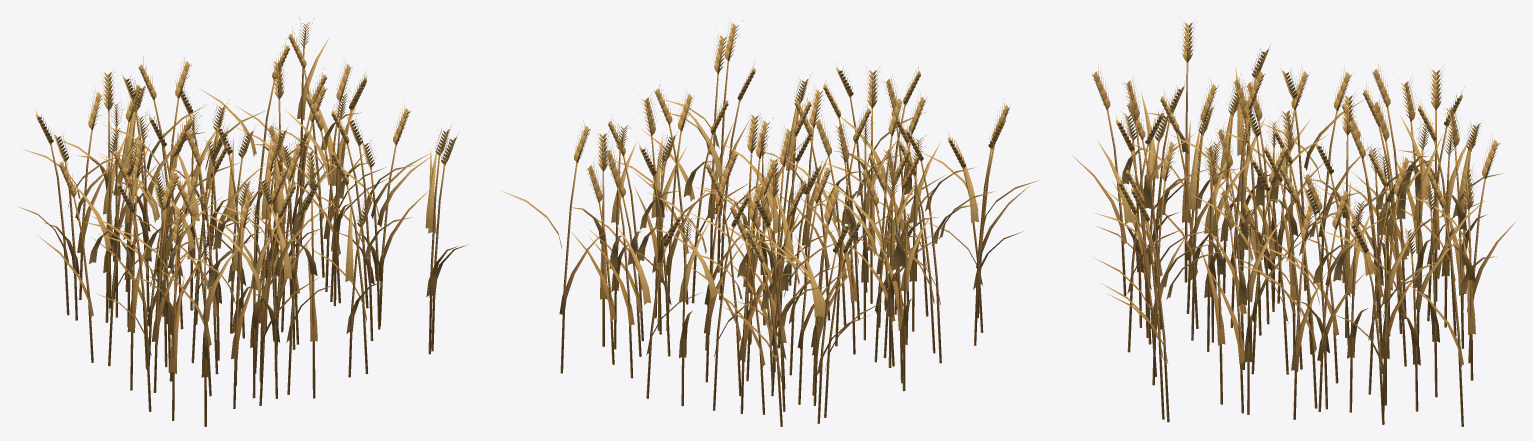
The model's file is frontier_sunmeadow_wheat_lod0.glb.
3 renders of one model, left to right at view 1: azimuth 30°, elevation 25°; view 2: azimuth 150°, elevation 25°; view 3: azimuth 270°, elevation 25°, orthographic. The views are drawn at different scales.
Visible parts, largest first — view 1: frontier_sunmeadow_wheat_LOD0; view 2: frontier_sunmeadow_wheat_LOD0; view 3: frontier_sunmeadow_wheat_LOD0.
Boxes of the visible parts, left/top/right/bottom form: frontier_sunmeadow_wheat_LOD0: left=17, top=17, right=468, bottom=426; frontier_sunmeadow_wheat_LOD0: left=502, top=18, right=1038, bottom=426; frontier_sunmeadow_wheat_LOD0: left=1072, top=20, right=1516, bottom=426.
Bounding box in the file's own units: 2.01 × 1.24 × 1.96.
Materials: 1 (1 with a texture image).
